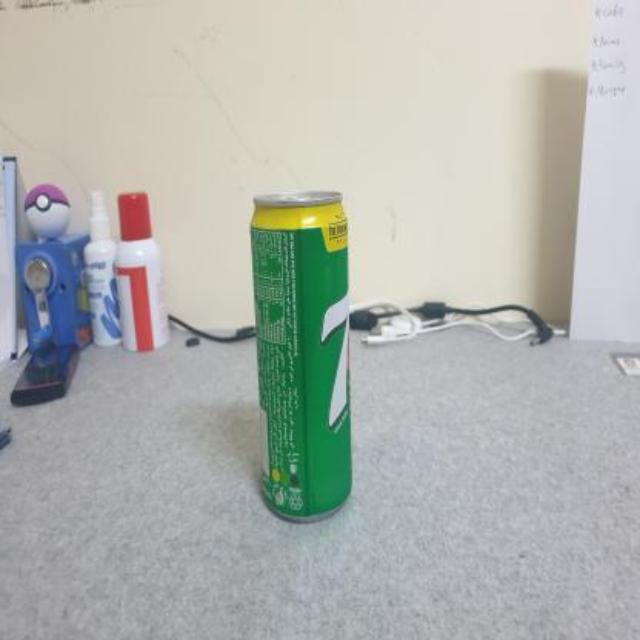metal: (251, 192, 351, 522)
